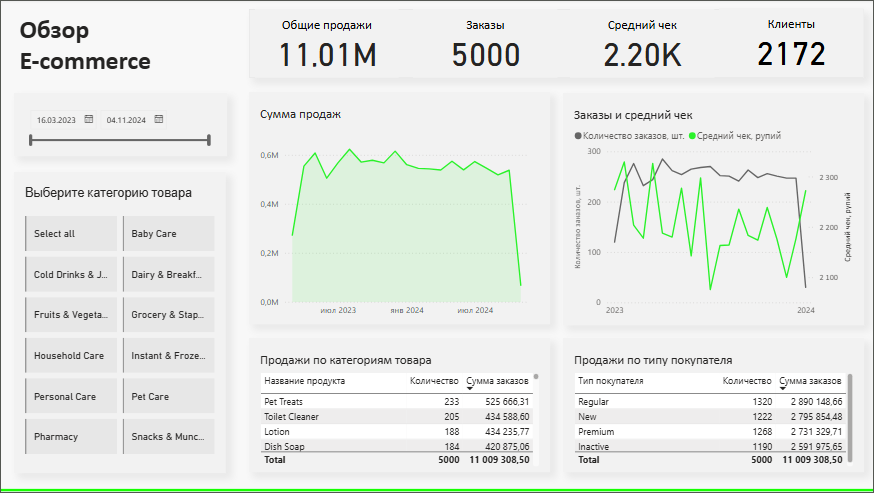

This screenshot's page, from the dashboard's own definition file:
{"tool":"powerbi","page":{"name":"dashboard","canvas":[1280,720],"ordinal":0},"visuals":[{"type":"shape","box":[364,14,894,100],"z":0},{"type":"card","title":"Общие продажи","fields":{"Values":["Sum(orders.order_total)"]},"box":[372.4,14.5,209,100],"z":1000},{"type":"card","title":"Заказы","fields":{"Values":["Count(order_items.order_id)"]},"box":[602,14,210,100],"z":2000},{"type":"card","title":"Средний чек","fields":{"Values":["orders.avg_bill"]},"box":[830,14,210,100],"z":3000},{"type":"card","title":"Клиенты","fields":{"Values":["Count(orders.customer_id)"]},"box":[1047.8,13.7,210,100],"z":4000},{"type":"areaChart","title":"Сумма продаж","fields":{"Category":["orders.order_date.Изменение.Иерархия дат.Год","orders.order_date.Изменение.Иерархия дат.Месяц"],"Y":["Sum(orders.order_total)"]},"box":[363,135.3,438.3,338.3],"z":5000},{"type":"slicer","fields":{"Values":["orders.order_date"]},"box":[22,136,310,92],"z":6000},{"type":"advancedSlicerVisual","title":"Выберите категорию товара","fields":{"Values":["products.category"]},"box":[22,252,308,438],"z":7000},{"type":"tableEx","title":"Продажи по категориям товара","fields":{"Values":["products.product_name","orders.order_id","Sum(orders.order_total)"]},"box":[363,493.7,438.3,195],"z":8000},{"type":"tableEx","title":"Продажи по типу покупателя","fields":{"Values":["customers.customer_segment","orders.order_id","Sum(orders.order_total)"]},"box":[819.7,493.7,438.3,195],"z":9000},{"type":"textbox","box":[21.8,1.5,308.4,135.3],"z":10000},{"type":"lineChart","title":"Заказы и средний чек","fields":{"Category":["orders.order_date.Изменение.Иерархия дат.Год","orders.order_date.Изменение.Иерархия дат.Месяц"],"Y":["Count(orders.order_id)"],"Y2":["orders.avg_bill"]},"box":[820,136,438,338],"z":11000},{"type":"shape","box":[0,708,1280,12],"z":12000}]}

Visuals, with their boxes in screenshot pixels (x1, y1, x2, y2), scaled from the page's 1280x720 canvas onto the 874x493 screenshot:
shape: [249,10,859,78]
"Общие продажи" card: [254,10,397,78]
"Заказы" card: [411,10,554,78]
"Средний чек" card: [567,10,710,78]
"Клиенты" card: [715,9,859,78]
"Сумма продаж" areaChart: [248,93,547,324]
slicer - orders.order_date: [15,93,227,156]
"Выберите категорию товара" advancedSlicerVisual: [15,173,225,472]
"Продажи по категориям товара" tableEx: [248,338,547,472]
"Продажи по типу покупателя" tableEx: [560,338,859,472]
textbox: [15,1,225,94]
"Заказы и средний чек" lineChart: [560,93,859,325]
shape: [0,485,873,492]
